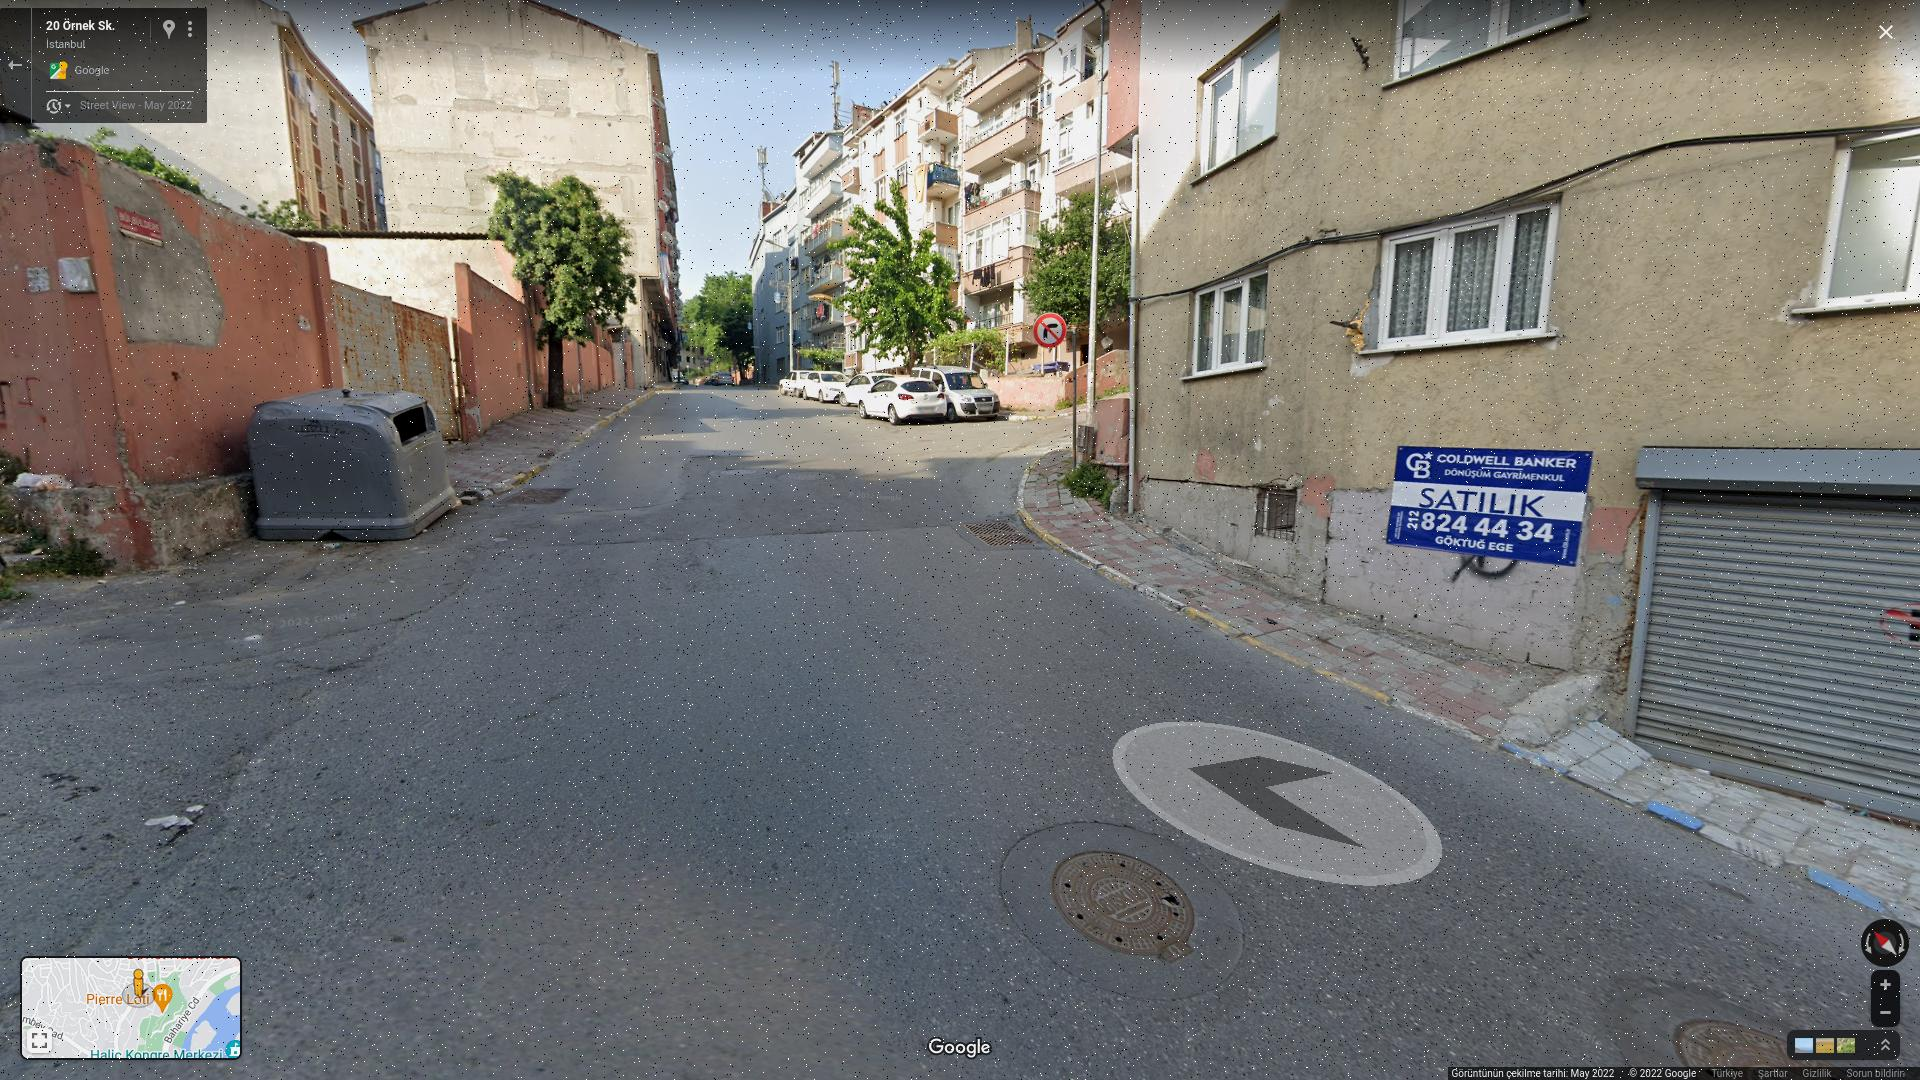rightturnsareforbidden: (1035, 315, 1063, 344)
